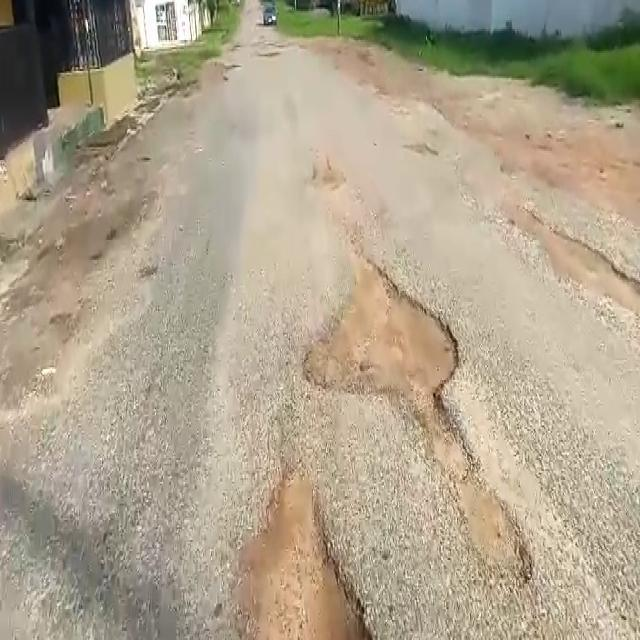pothole: (294, 252, 474, 419), (226, 462, 376, 640), (418, 404, 531, 587), (482, 201, 640, 330)
